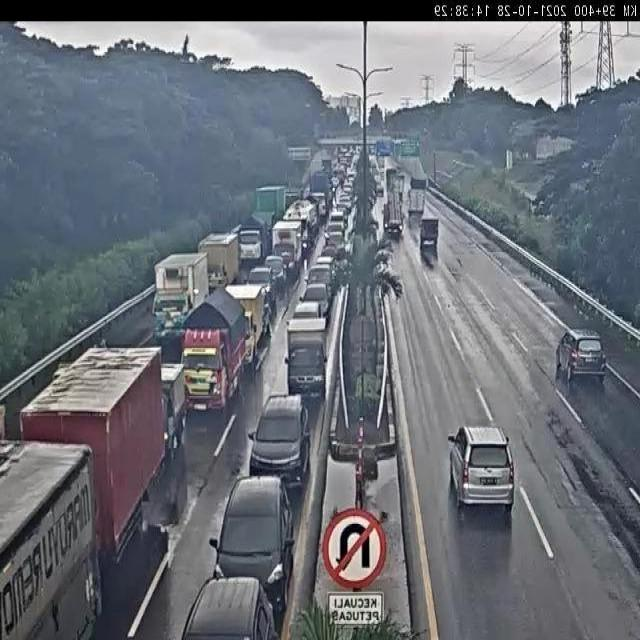Car: (206, 474, 296, 603), (445, 424, 516, 518), (180, 575, 279, 640), (245, 394, 314, 487), (555, 331, 607, 383)
Truck: (0, 349, 174, 640), (186, 291, 244, 410), (153, 252, 208, 343), (146, 362, 188, 459), (283, 318, 329, 404), (225, 282, 264, 373), (196, 232, 237, 300), (236, 213, 266, 268), (273, 220, 301, 278), (255, 183, 287, 228)
